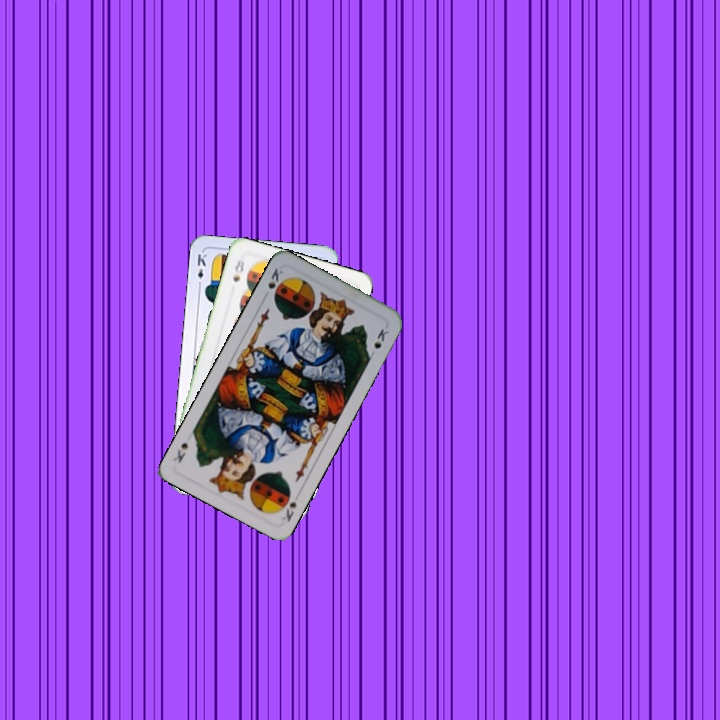EK: (193, 250, 209, 290)
S8: (229, 252, 247, 284)
SK: (259, 264, 286, 301), (278, 496, 299, 525)
